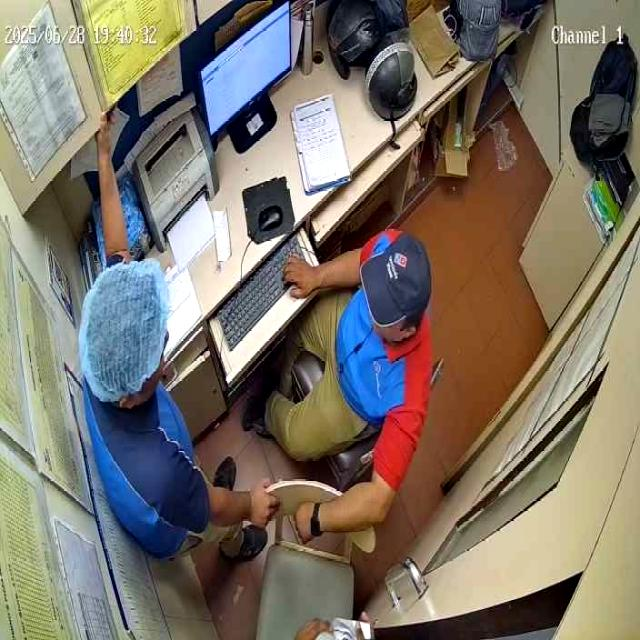helmet: (364, 34, 418, 120)
no_helmet: (361, 233, 431, 342)
